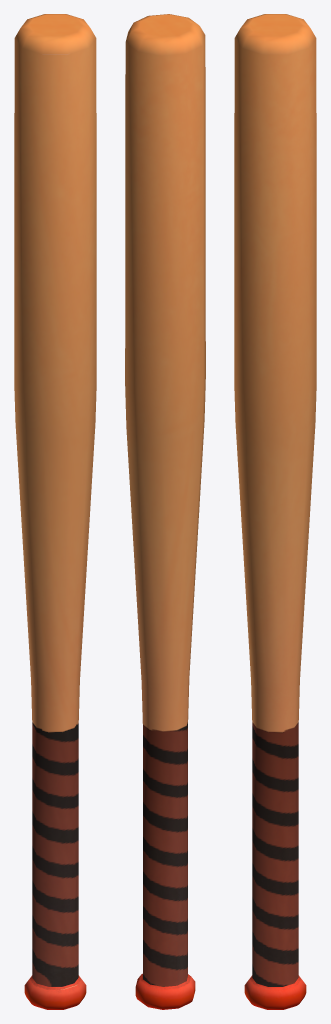
File: BaseballBat.fbx
The picture shows the model from 3 angles, left to right: view 1: azimuth 90°, elevation 25°; view 2: azimuth 210°, elevation 25°; view 3: azimuth 270°, elevation 25°; orthographic projection.
Parts seen in each view (by area): view 1: Baseball_Bat; view 2: Baseball_Bat; view 3: Baseball_Bat.
Boxes of the visible parts, x1=… form: Baseball_Bat: x1=14, y1=14, x2=96, y2=1009; Baseball_Bat: x1=125, y1=14, x2=205, y2=1009; Baseball_Bat: x1=234, y1=14, x2=316, y2=1009.
Bounding box in the file's own units: 28.82 × 395 × 30.3.
Materials: 1 (1 with a texture image).
